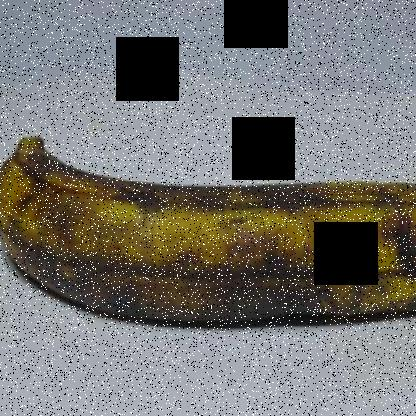overripe: (1, 125, 415, 335)
